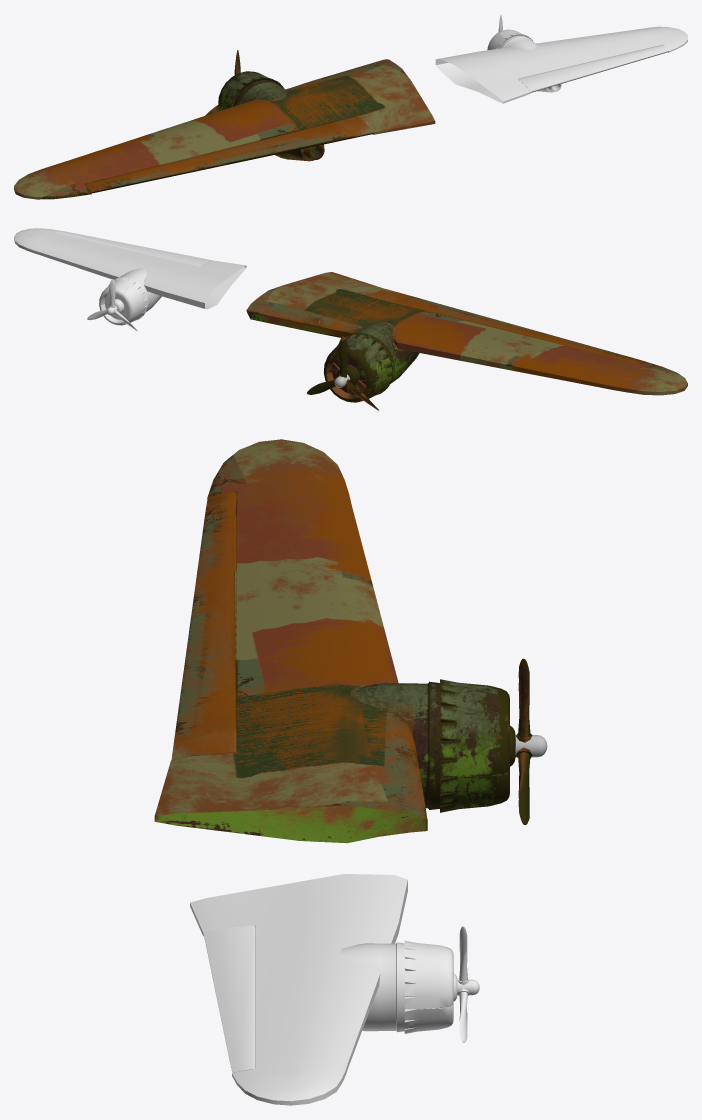
Rendered from wingRig3.fbx.
3 renders of one model, top to bottom at view 1: azimuth 30°, elevation 25°; view 2: azimuth 150°, elevation 25°; view 3: azimuth 270°, elevation 25°, orthographic. The views are drawn at different scales.
Visible parts, largest first — view 1: wing_UVed, wing_UVed.002, wing_UVed.003; view 2: wing_UVed, wing_UVed.002, wing_UVed.003, wing_UVed.001, wing_UVed.004; view 3: wing_UVed, wing_UVed.002, wing_UVed.003, wing_UVed.001.
Part boxes in pixels (bbox=[...]): wing_UVed: bbox=[14, 26, 687, 199]; wing_UVed.002: bbox=[85, 116, 373, 193]; wing_UVed.003: bbox=[518, 45, 668, 92]; wing_UVed: bbox=[14, 228, 687, 402]; wing_UVed.002: bbox=[369, 288, 645, 363]; wing_UVed.003: bbox=[56, 230, 212, 266]; wing_UVed.001: bbox=[307, 336, 378, 410]; wing_UVed.004: bbox=[87, 279, 137, 330]; wing_UVed: bbox=[154, 439, 547, 1105]; wing_UVed.002: bbox=[171, 492, 236, 760]; wing_UVed.003: bbox=[203, 925, 255, 1073]; wing_UVed.001: bbox=[516, 658, 532, 824].
Bounding box in the file's own units: 73158 × 7760 × 18694.
Materials: 2 (1 with a texture image).
